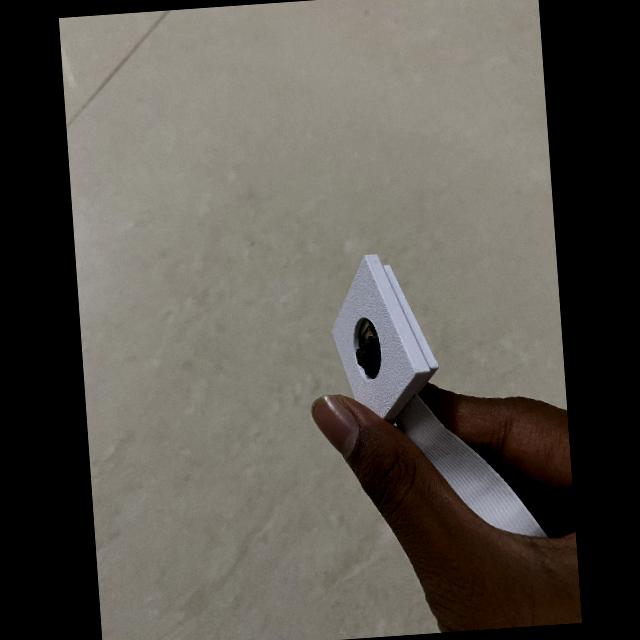RASPBERY PI CAM ENCLOSURE: (332, 255, 437, 421)
